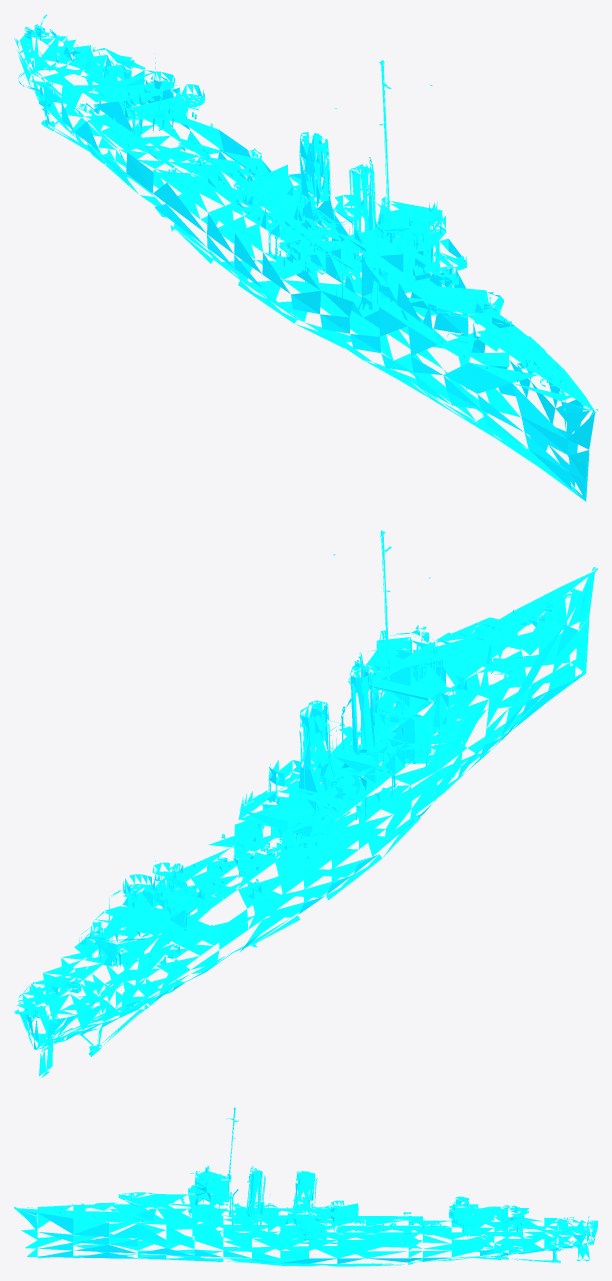
Rendered from Monaghan.glb.
The picture shows the model from 3 angles, top to bottom: view 1: azimuth 30°, elevation 25°; view 2: azimuth 150°, elevation 25°; view 3: azimuth 270°, elevation 25°; orthographic projection. The views are drawn at different scales.
Bounding box in the file's own units: 0.7163 × 2.02 × 6.94.
